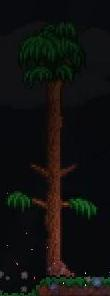tree: (0, 1, 110, 296)
